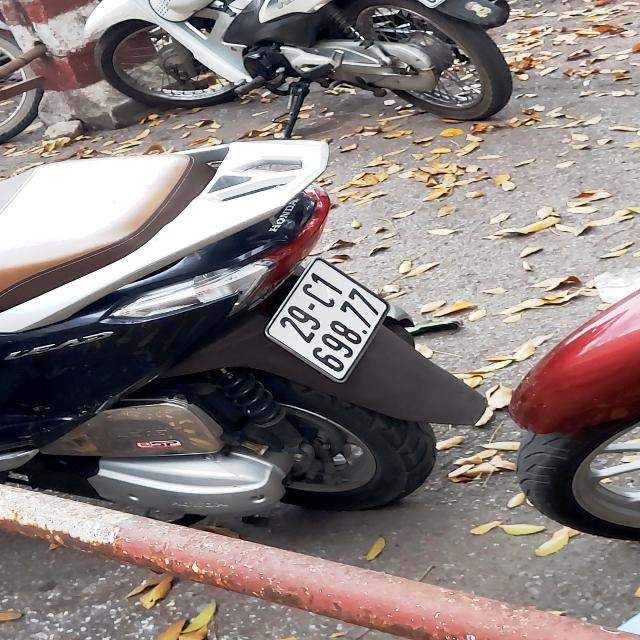license_plate: (257, 250, 399, 392)
